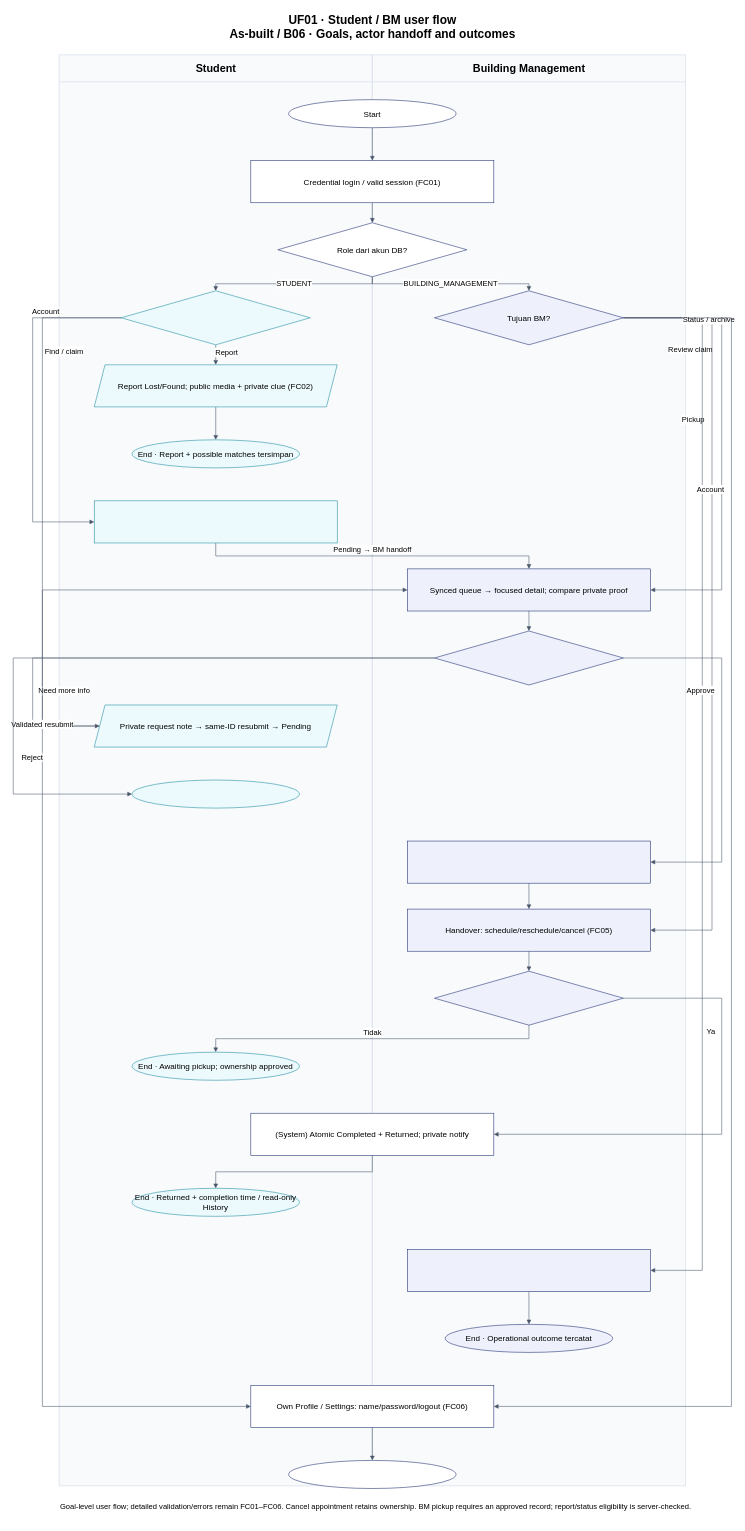
The diagram is 745 pixels wide and 1531 high, and some of its shapes have lost their labels. Here are the shapes that lost their labels. From the top down, the centre of each, then its label:
[215,317]: Tujuan Student?
[215,521]: Explore/filter → detail → explicit claim (FC03)
[528,657]: Keputusan dengan note + confirmation?
[215,793]: End · Rejected; eligible resubmit tersedia
[528,862]: Approve → one handover; item/pair Ready for pickup
[528,998]: Konfirmasi physical return sekarang?
[528,1270]: Reports: eligible status/archive/Lost recovery (FC05)
[372,1474]: End · Own account operation selesai
